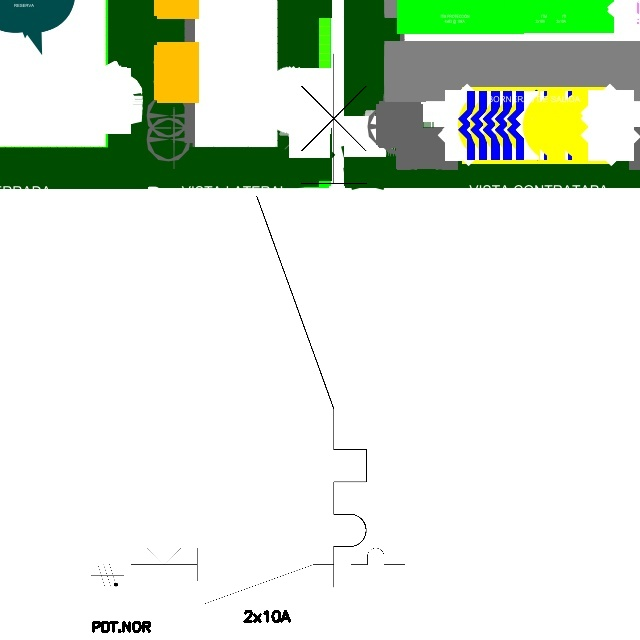interruptor_termomagnetico: (243, 40, 380, 601), (123, 541, 412, 611)
